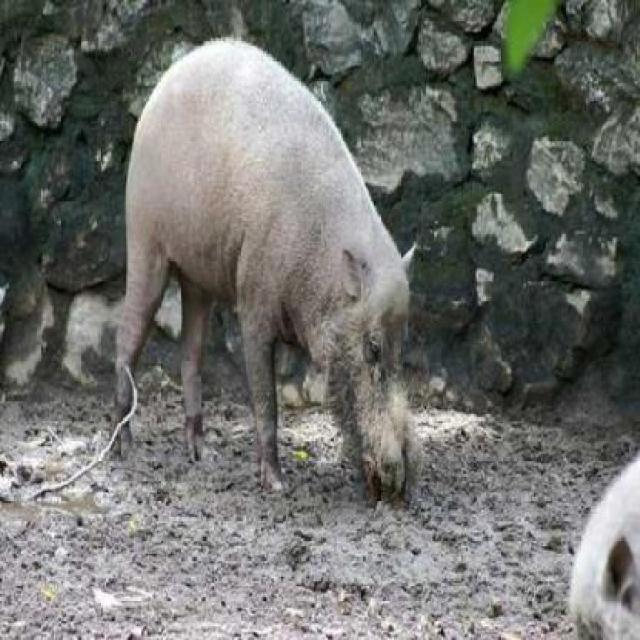pig: (103, 50, 455, 528)
